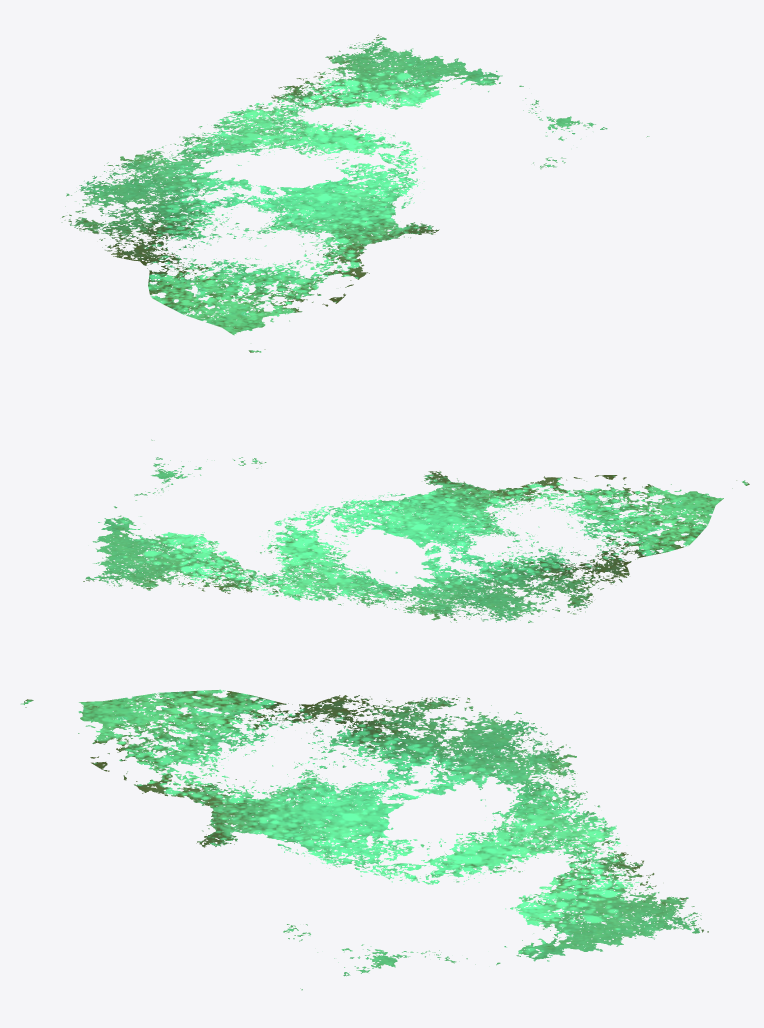
Rendered from moss4.fbx.
3 views of the same model, one above another, from view 1: azimuth 30°, elevation 25°; view 2: azimuth 150°, elevation 25°; view 3: azimuth 270°, elevation 25° (orthographic). The views are drawn at different scales.
Visible parts, largest first — view 1: moss4; view 2: moss4; view 3: moss4.
Part boxes in pixels (x1,y1,x2,y2): moss4: [61, 34, 649, 352]; moss4: [83, 439, 749, 622]; moss4: [20, 689, 708, 990].
Bounding box in the file's own units: 224 × 3.08 × 198.
